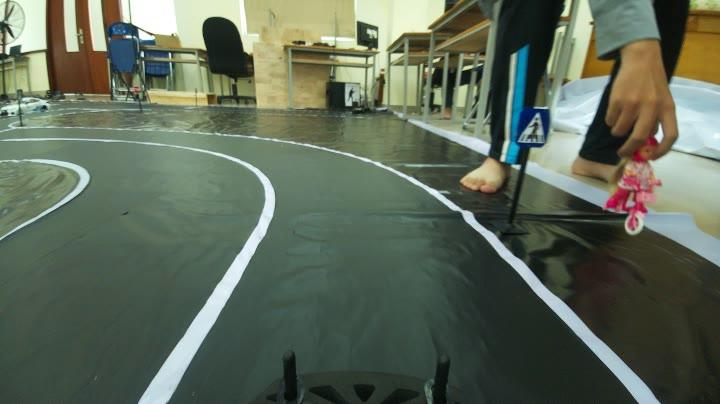crosswalk: (514, 102, 548, 146)
